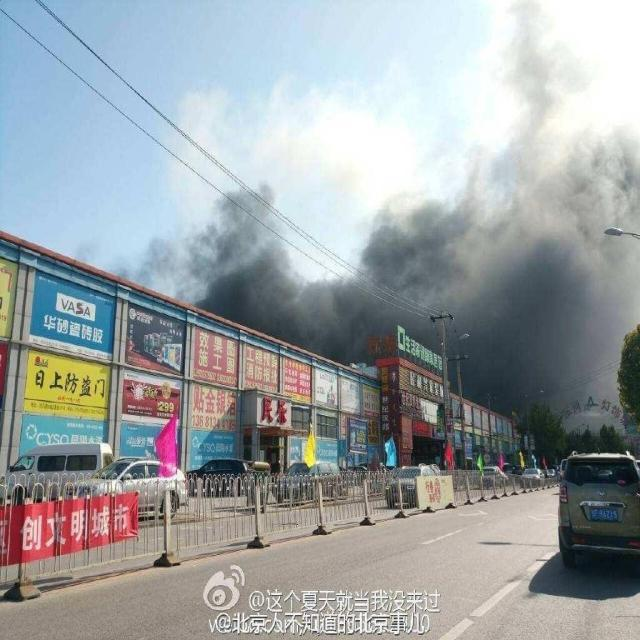Smoke: (137, 0, 640, 421)
